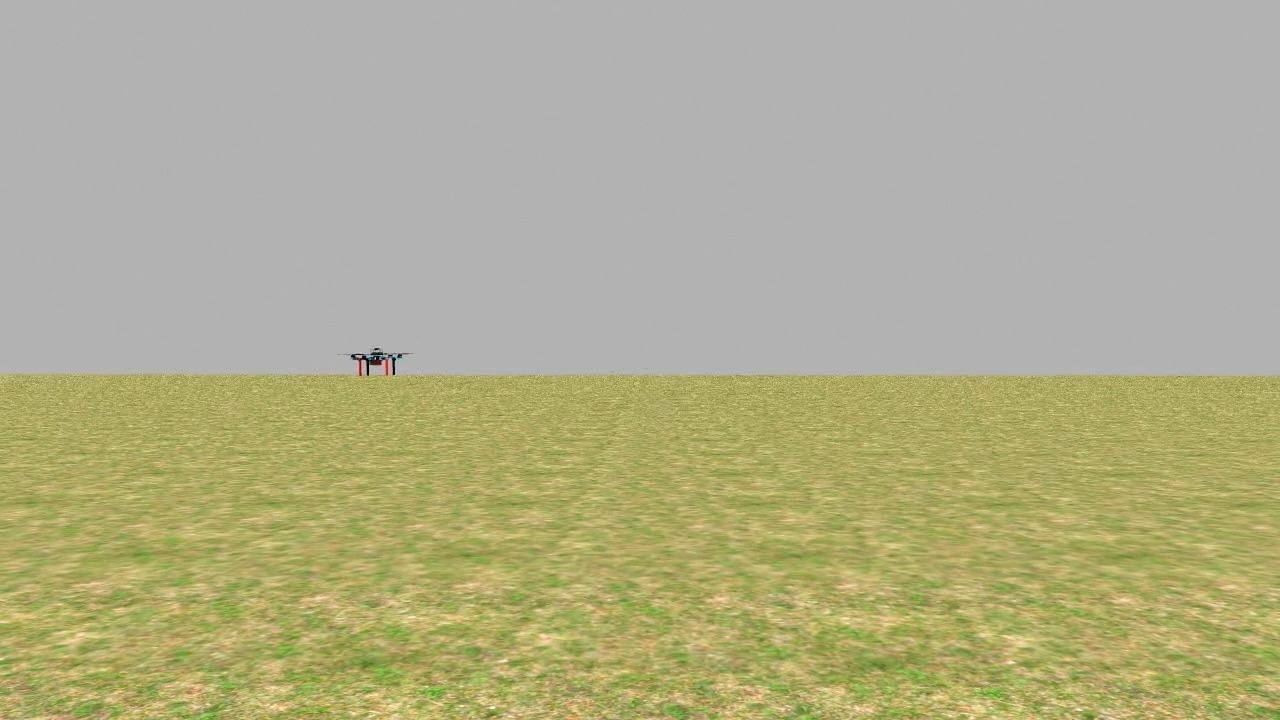UAV: (339, 339, 414, 385)
